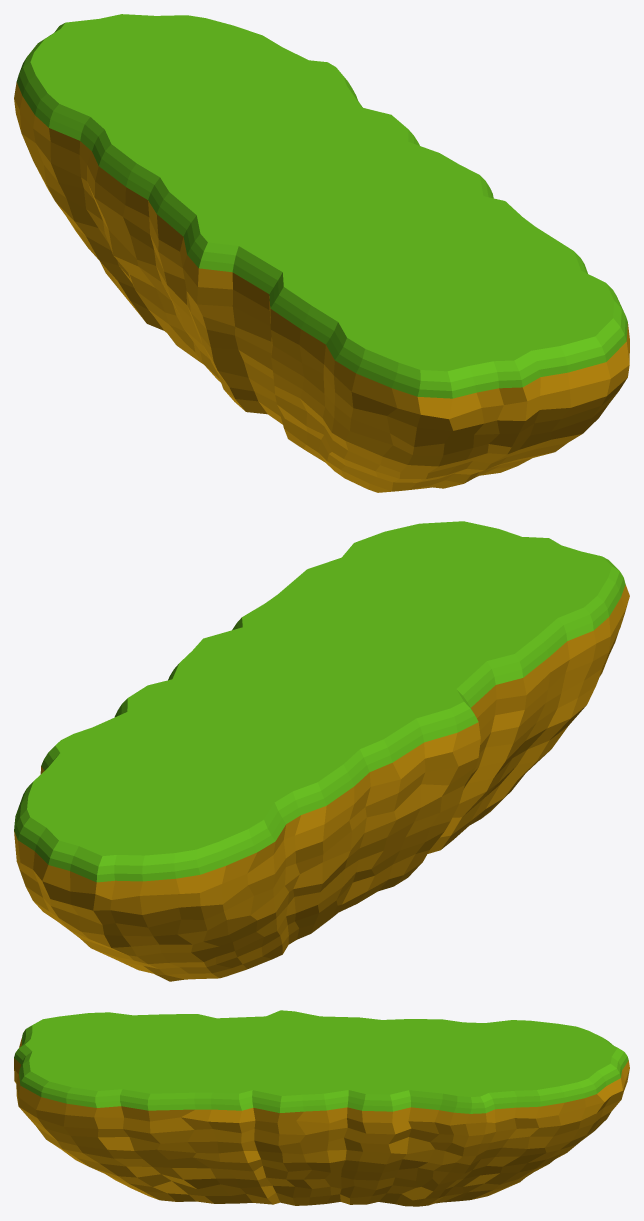
Rendered from land6.fbx.
3 views of the same model, one above another, from view 1: azimuth 30°, elevation 25°; view 2: azimuth 150°, elevation 25°; view 3: azimuth 270°, elevation 25° (orthographic). The views are drawn at different scales.
Parts seen in each view (by area): view 1: Plane; view 2: Plane; view 3: Plane.
Part boxes in pixels (bbox=[...]): Plane: bbox=[14, 14, 629, 492]; Plane: bbox=[14, 521, 629, 981]; Plane: bbox=[14, 1010, 629, 1206].
Size of the model in its own units: 673 by 405 by 1842.
1 material, 1 textured.
